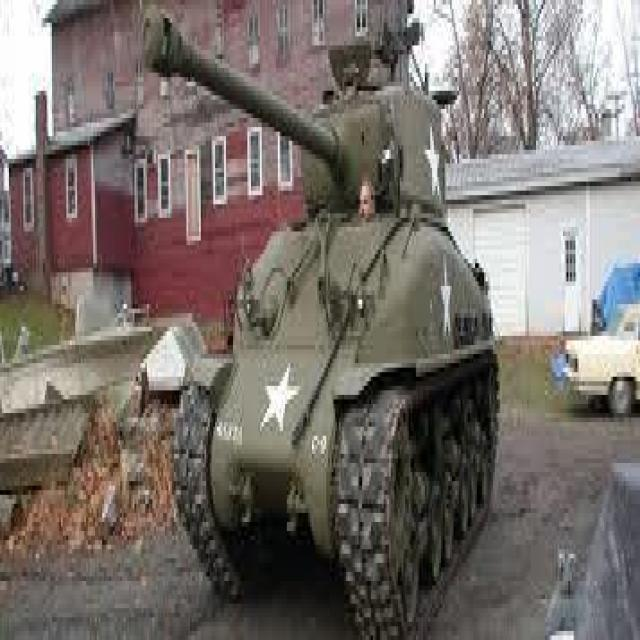MIL_MBT: (156, 30, 506, 606)
